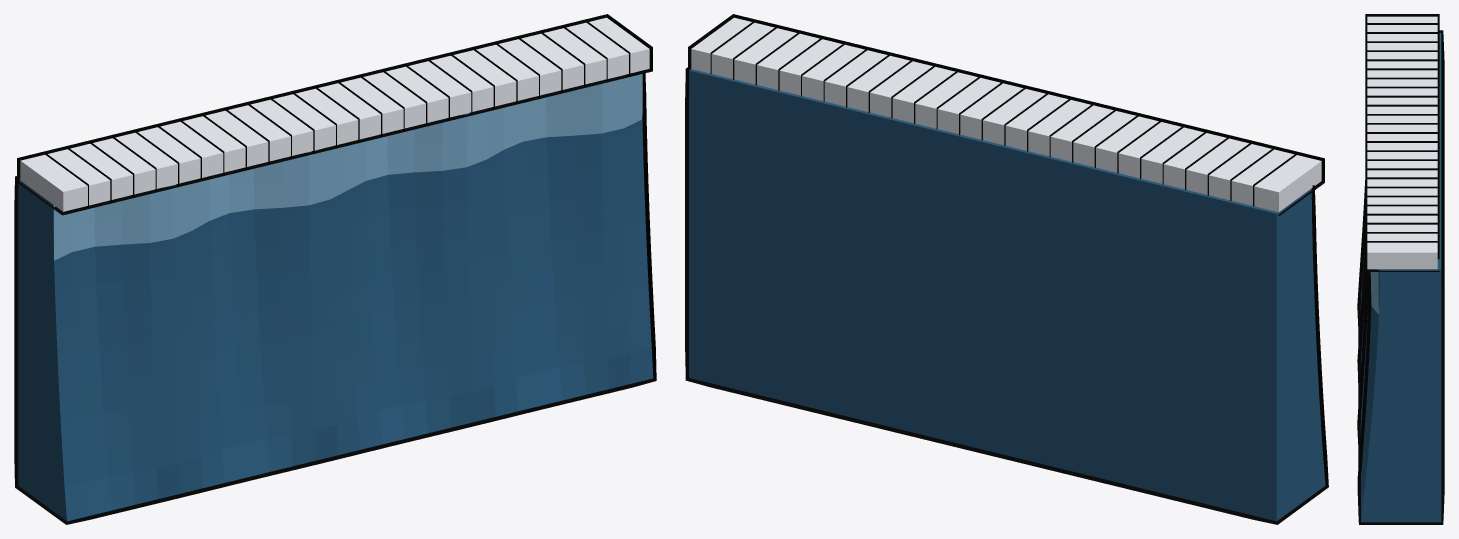
File: Tundra_RiftWall.glb
3 views of the same model, side by side, from view 1: azimuth 30°, elevation 25°; view 2: azimuth 150°, elevation 25°; view 3: azimuth 270°, elevation 25° (orthographic). The views are drawn at different scales.
Visible parts, largest first — view 1: Tundra_RiftWall_Deep, Tundra_RiftWall_Lip, Tundra_RiftWall_Upper, Tundra_RiftWall_OutlineHull; view 2: Tundra_RiftWall_Deep, Tundra_RiftWall_Lip, Tundra_RiftWall_OutlineHull; view 3: Tundra_RiftWall_Deep, Tundra_RiftWall_Lip, Tundra_RiftWall_OutlineHull, Tundra_RiftWall_Upper.
Boxes of the visible parts, box(x1,y1,x2,y2) form: Tundra_RiftWall_Deep: box(18, 120, 653, 521); Tundra_RiftWall_Lip: box(20, 17, 649, 211); Tundra_RiftWall_Upper: box(54, 74, 642, 260); Tundra_RiftWall_OutlineHull: box(14, 14, 656, 524); Tundra_RiftWall_Deep: box(689, 69, 1325, 521); Tundra_RiftWall_Lip: box(691, 17, 1321, 212); Tundra_RiftWall_OutlineHull: box(685, 14, 1328, 524); Tundra_RiftWall_Deep: box(1360, 33, 1441, 522); Tundra_RiftWall_Lip: box(1367, 16, 1437, 269); Tundra_RiftWall_OutlineHull: box(1357, 14, 1444, 524); Tundra_RiftWall_Upper: box(1370, 269, 1378, 314).
Size of the model in its own units: 8.08 by 4.32 by 1.25.
